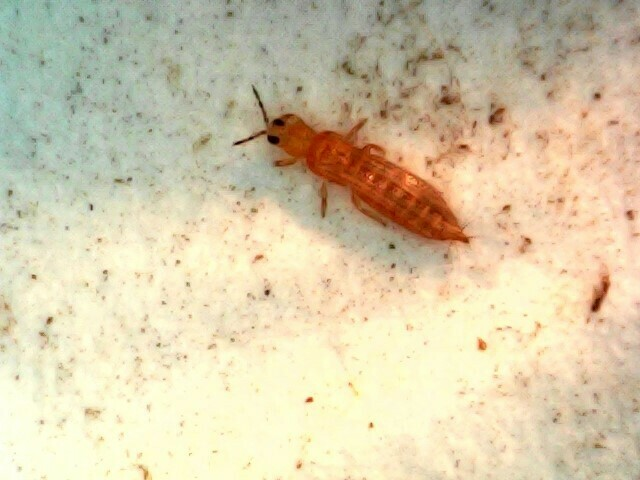tiny_pests: (203, 49, 506, 281)
